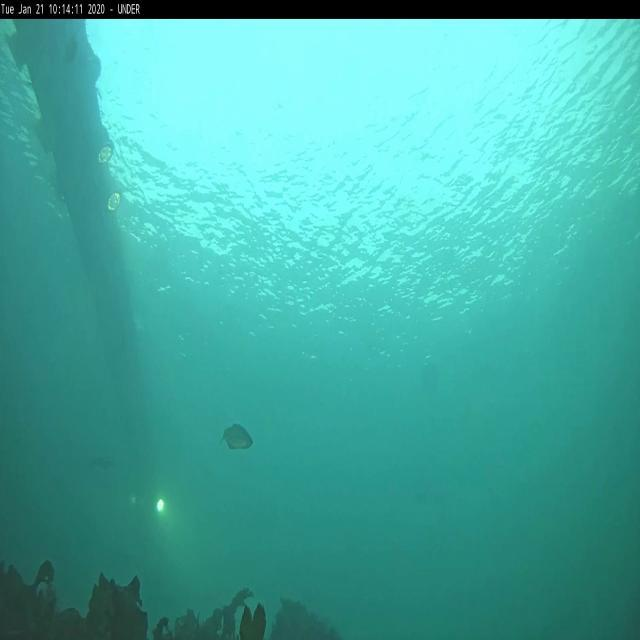fish: (222, 424, 254, 452), (90, 452, 116, 472)
